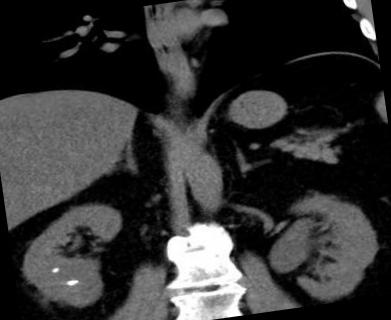Tas_Var: (63, 277, 81, 288), (50, 266, 61, 274)
